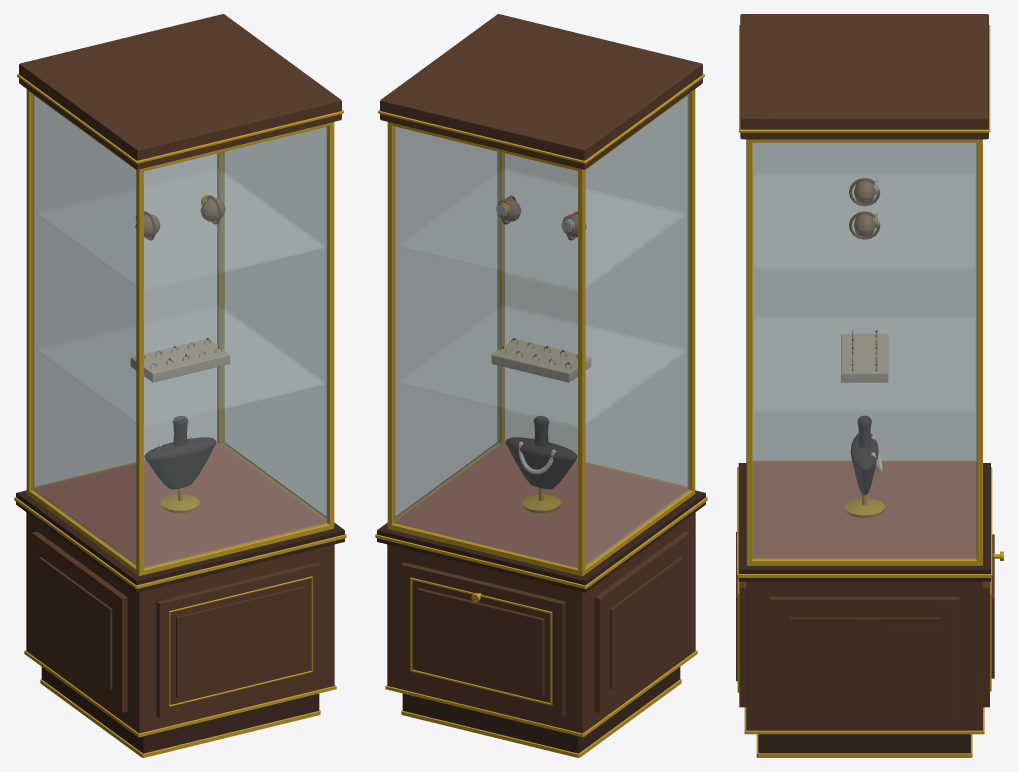
Rendered from prop_display_case_vitrine.glb.
The picture shows the model from 3 angles, left to right: view 1: azimuth 30°, elevation 25°; view 2: azimuth 150°, elevation 25°; view 3: azimuth 270°, elevation 25°; orthographic projection. The views are drawn at different scales.
Visible parts, largest first — view 1: Body, Glass, Display; view 2: Body, Glass, Display; view 3: Body, Glass, Display.
Boxes of the visible parts, x1,y1,x2,y2 form: Body: [14, 14, 346, 757]; Glass: [31, 94, 328, 568]; Display: [130, 194, 230, 513]; Body: [375, 14, 707, 757]; Glass: [393, 94, 690, 568]; Display: [491, 195, 591, 513]; Body: [736, 14, 1003, 757]; Glass: [752, 142, 976, 559]; Display: [841, 178, 888, 517].
Size of the model in its own units: 0.652 by 1.81 by 0.679.
